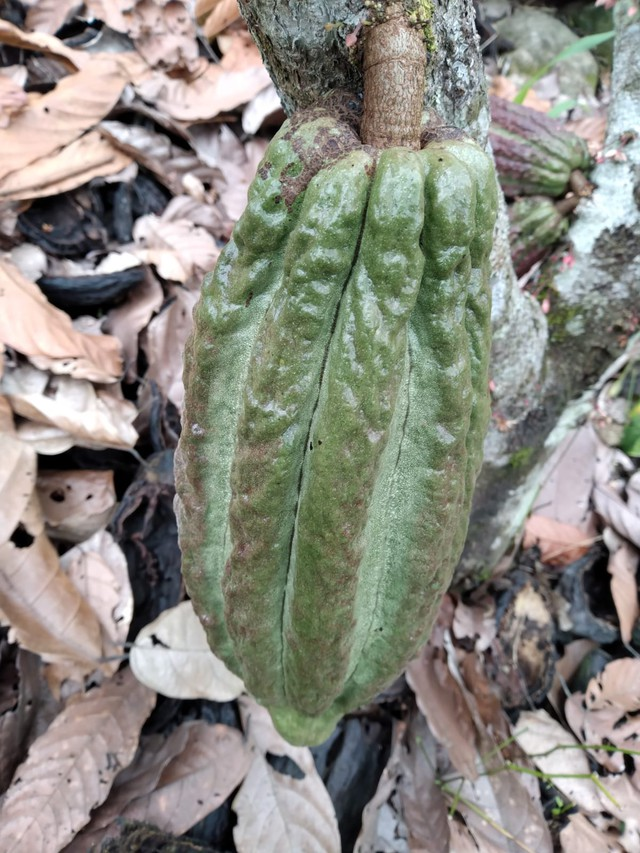Health: (170, 80, 510, 757)
